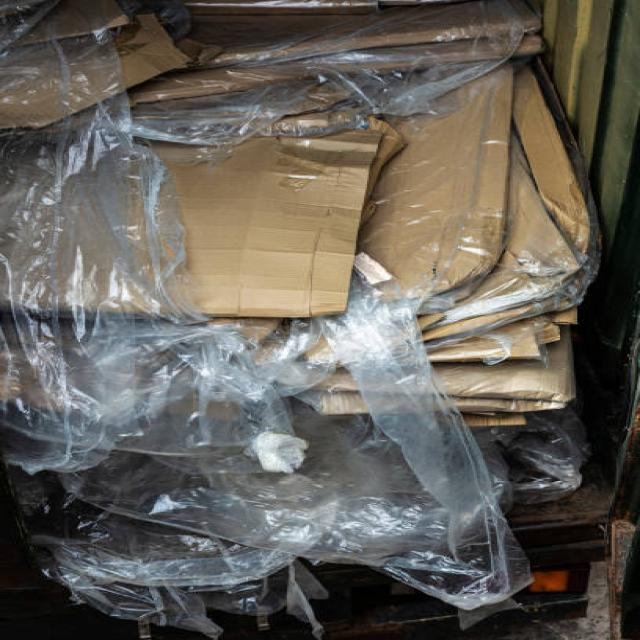cardboard: (199, 154, 573, 320)
plastic: (78, 459, 490, 570)
